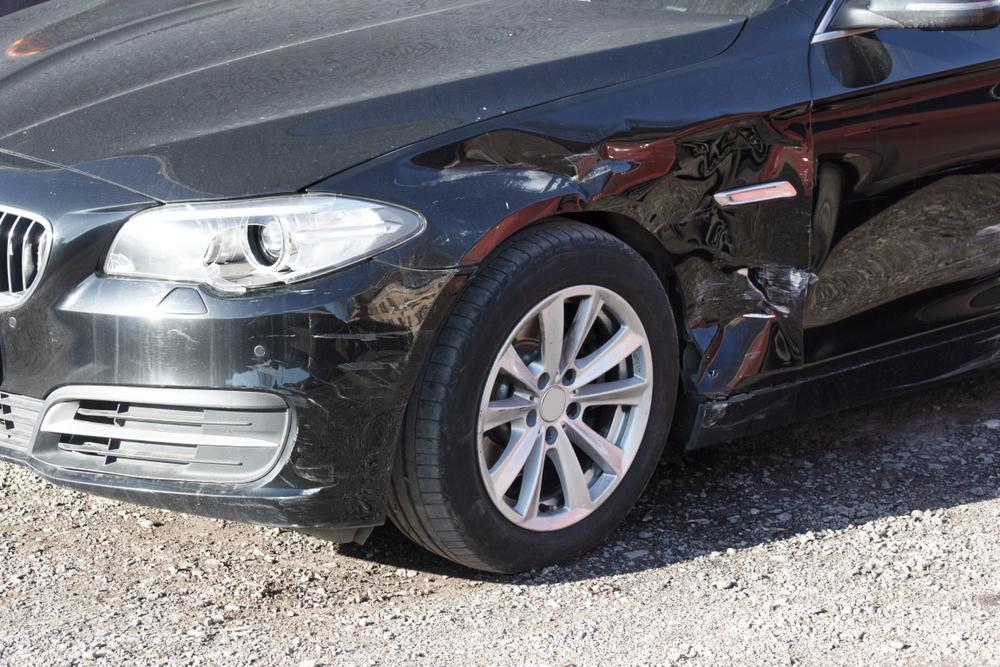crack: (745, 265, 772, 306)
dent: (419, 113, 804, 386)
lamp broken: (102, 193, 423, 291)
scratch: (234, 281, 415, 486)
